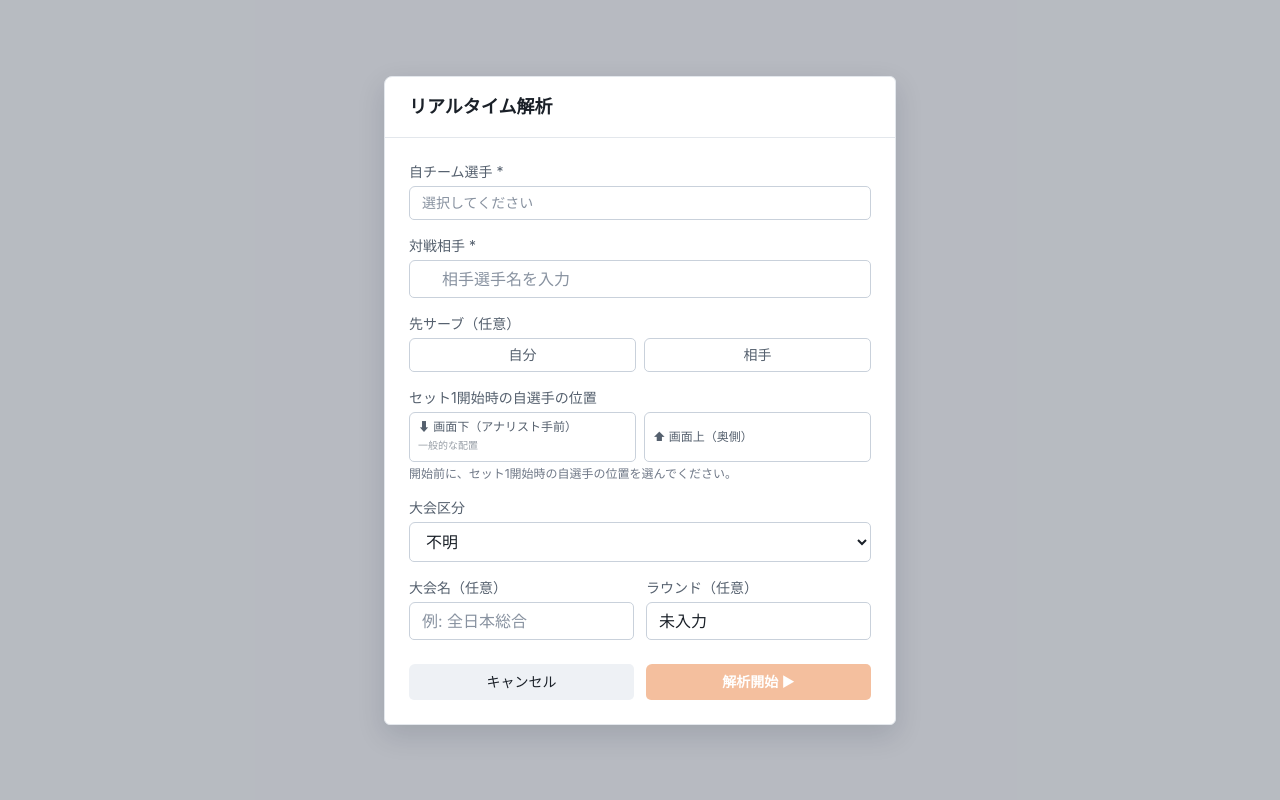
Test case: QuickStartModal opponent search failure › shows an error with retry and hides the provisional-registration button
Type "山田" into the field with placeholder "相手選手名を入力".
click(640, 278); type("山田")  # box [409,260,871,298]
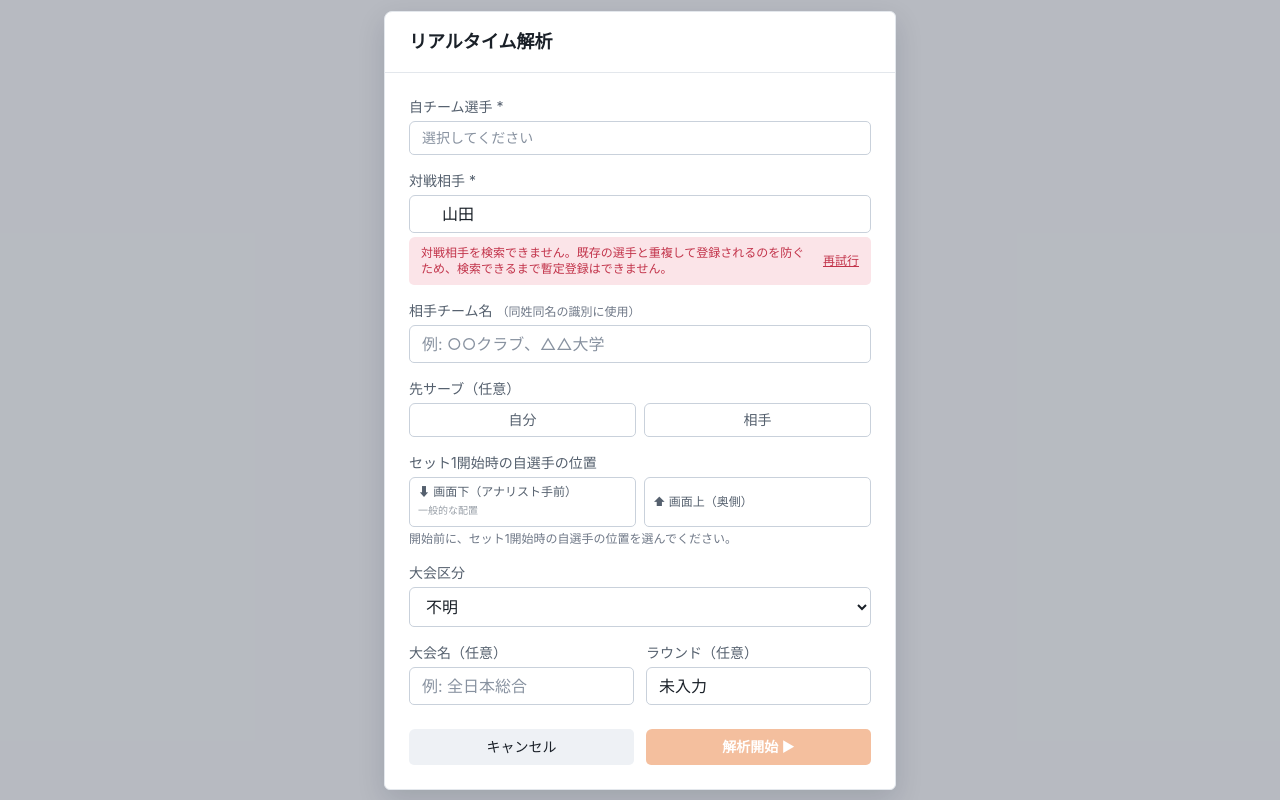
Check: the message shows "検索できません", box [421,244,804,276]
Check: the button "再試行" is shown, box [823,252,859,268]
